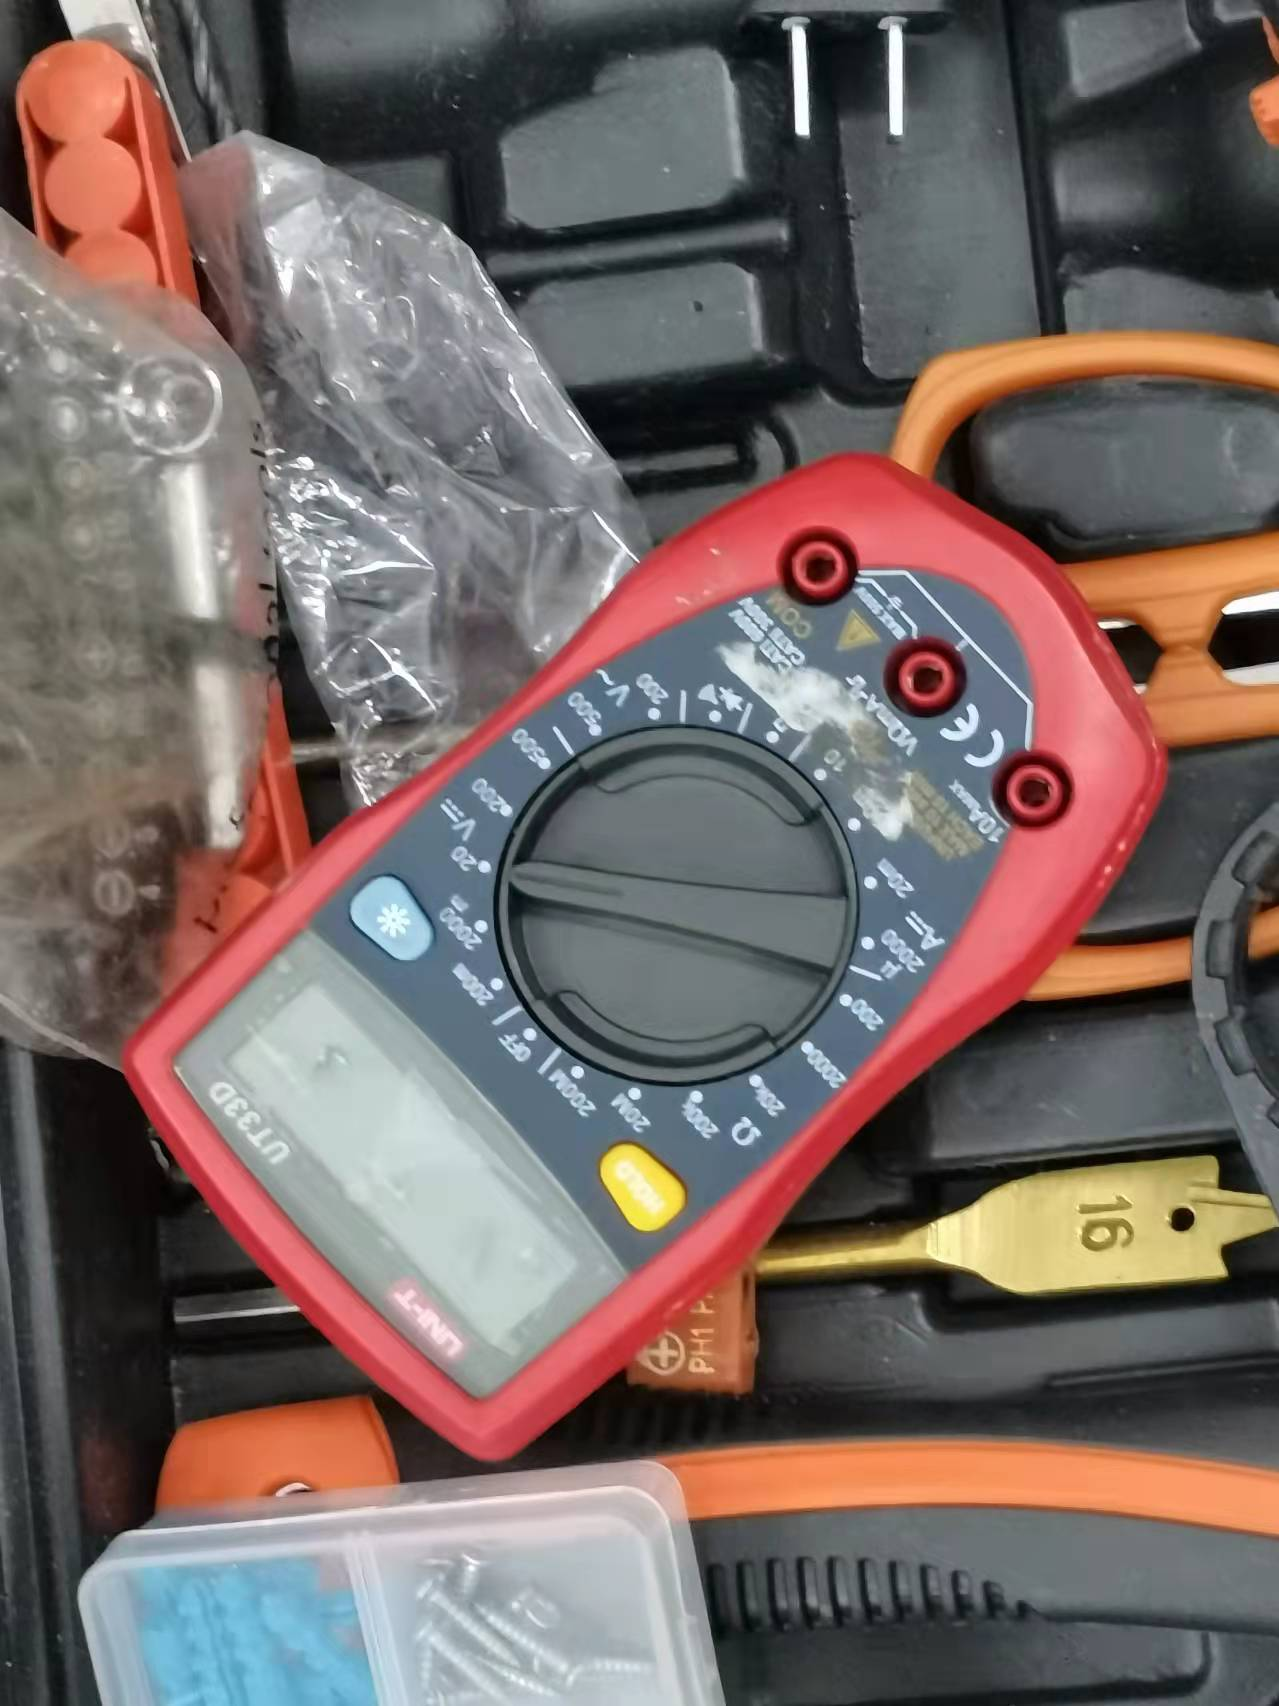Multimeter: (116, 455, 1165, 1471)
